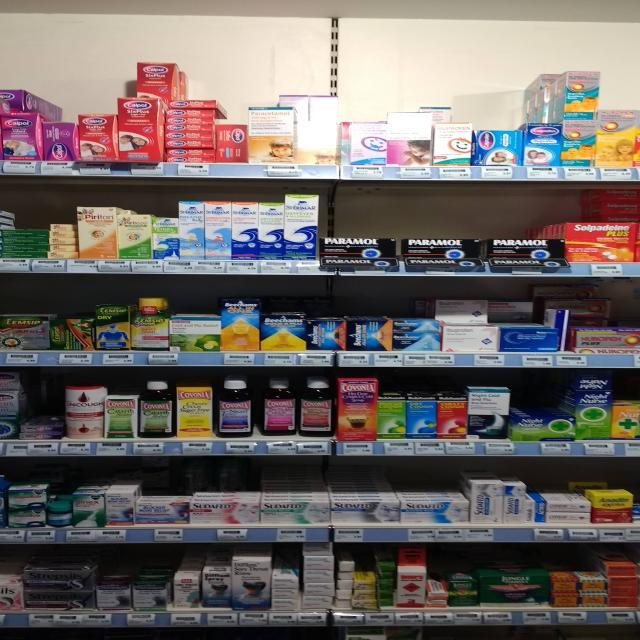unorganised: (542, 307, 569, 351), (173, 574, 201, 608)
